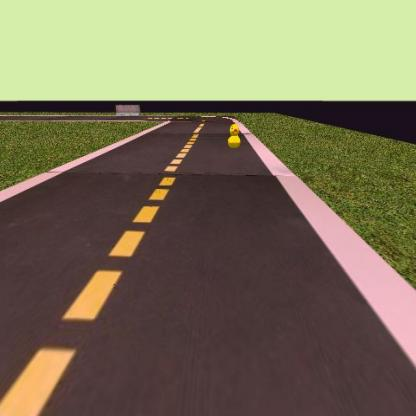Barrier: (116, 104, 141, 118)
Duckie: (228, 122, 241, 150)
